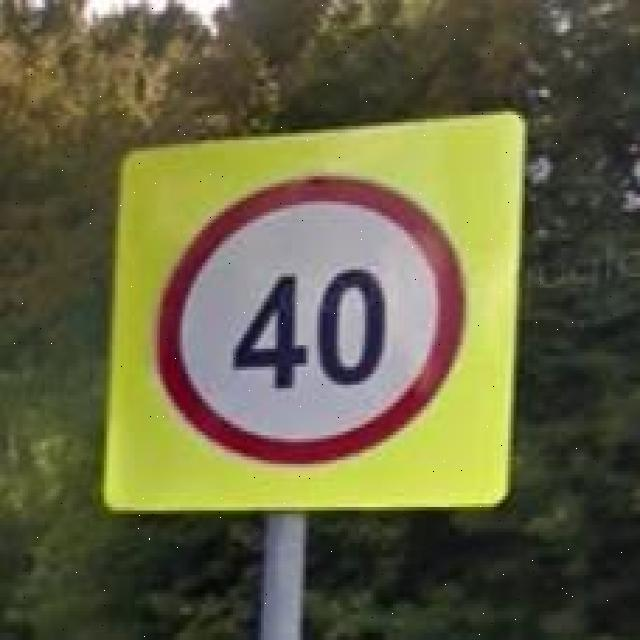speed limit 40: (152, 172, 465, 464)
